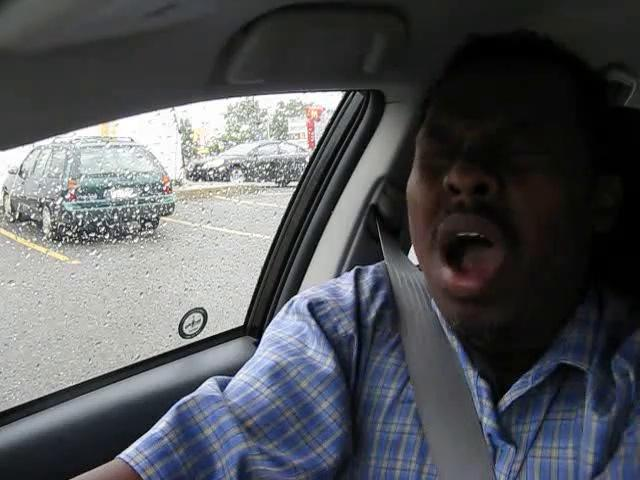close_eyeL: (408, 130, 471, 177)
close_eyeR: (486, 136, 569, 186)
yawn: (415, 213, 524, 301)
